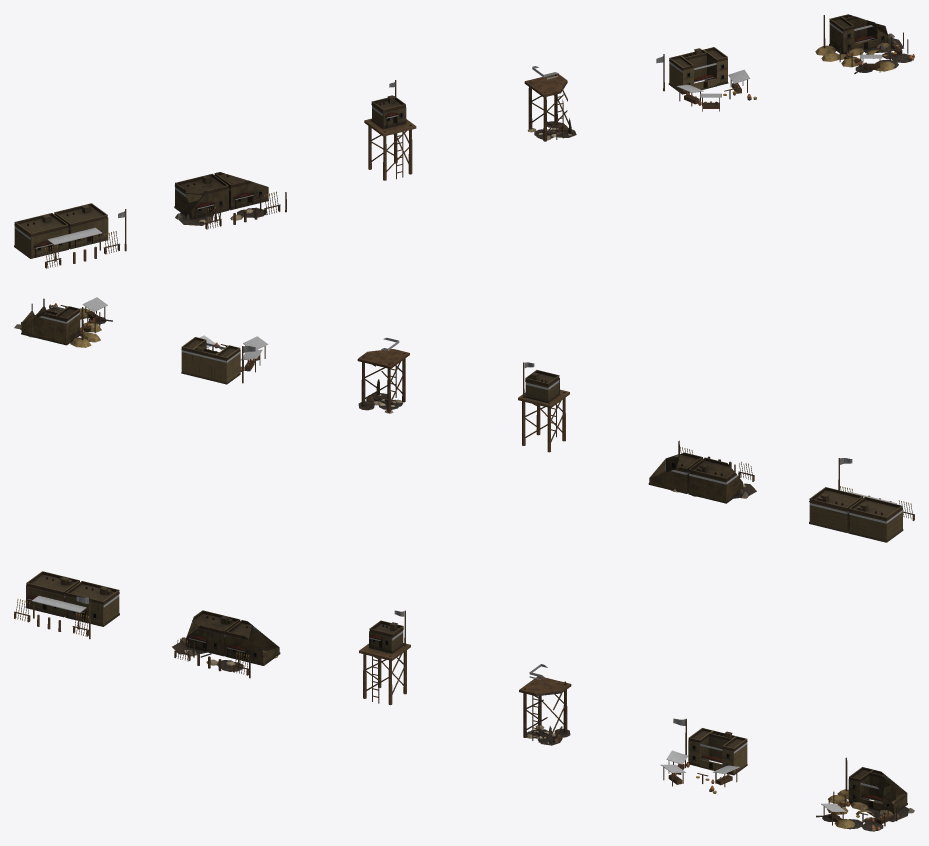
File: rts-classical-steppe.glb
3 views of the same model, one above another, from view 1: azimuth 30°, elevation 25°; view 2: azimuth 150°, elevation 25°; view 3: azimuth 330°, elevation 25° (orthographic).
Parts seen in each view (by area): view 1: LOD0, LOD0.001, LOD0.005, LOD0.004, LOD0.002, LOD0.003; view 2: LOD0, LOD0.001, LOD0.005, LOD0.004, LOD0.002, LOD0.003; view 3: LOD0.001, LOD0, LOD0.005, LOD0.004, LOD0.002, LOD0.003.
Part boxes in pixels (x1=…): LOD0: x1=14, y1=203, x2=126, y2=268; LOD0.001: x1=174, y1=172, x2=286, y2=229; LOD0.005: x1=815, y1=14, x2=914, y2=73; LOD0.004: x1=656, y1=47, x2=756, y2=111; LOD0.002: x1=364, y1=80, x2=416, y2=180; LOD0.003: x1=524, y1=66, x2=576, y2=141; LOD0: x1=809, y1=458, x2=914, y2=542; LOD0.001: x1=648, y1=440, x2=756, y2=503; LOD0.005: x1=14, y1=297, x2=112, y2=347; LOD0.004: x1=181, y1=335, x2=268, y2=384; LOD0.002: x1=518, y1=362, x2=569, y2=452; LOD0.003: x1=357, y1=337, x2=409, y2=413; LOD0.001: x1=172, y1=610, x2=280, y2=678; LOD0: x1=14, y1=571, x2=119, y2=639; LOD0.005: x1=816, y1=757, x2=914, y2=831; LOD0.004: x1=661, y1=718, x2=747, y2=793; LOD0.002: x1=359, y1=610, x2=410, y2=705; LOD0.003: x1=519, y1=664, x2=571, y2=745.
Size of what is drawn, in the model's own units: 16.4 by 1.48 by 1.37.
Materials: 2 (2 with a texture image).
